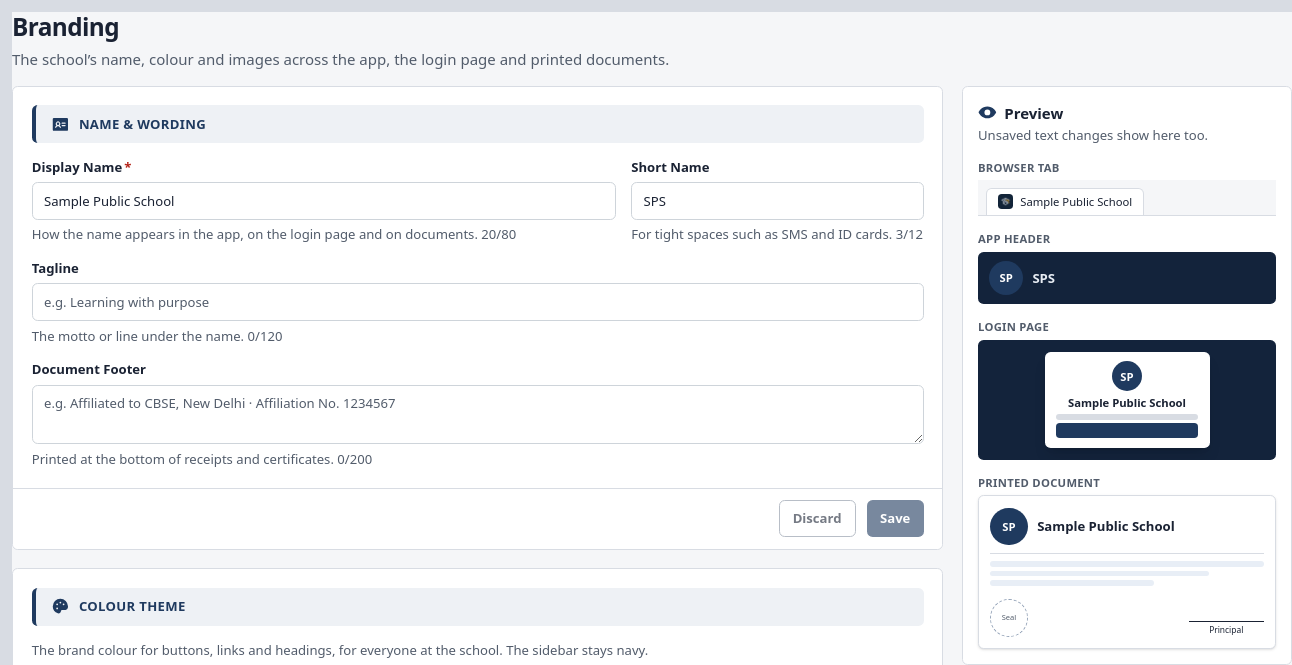
Test case: BrandingPage › previews unsaved text and blocks an empty name
This screenshot has width=1292, height=665.
Replace the text in the field labelled "Display Name*" with "Green Valley School" at (324, 201), box [32, 182, 616, 220]
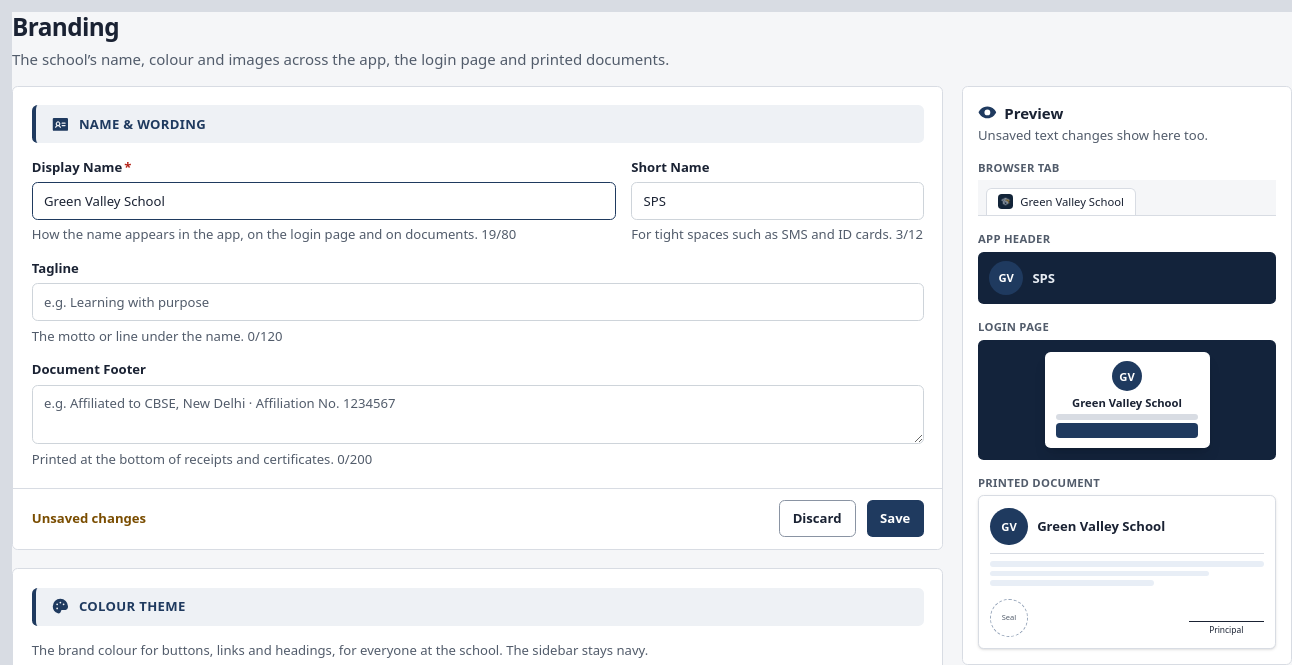
Result: the text "Unsaved changes" is shown at [32, 509, 146, 528]
Result: the 1st text "Green Valley School" is shown at [1020, 194, 1124, 210]
Clear the field labelled "Display Name*" at (324, 201), box [32, 182, 616, 220]
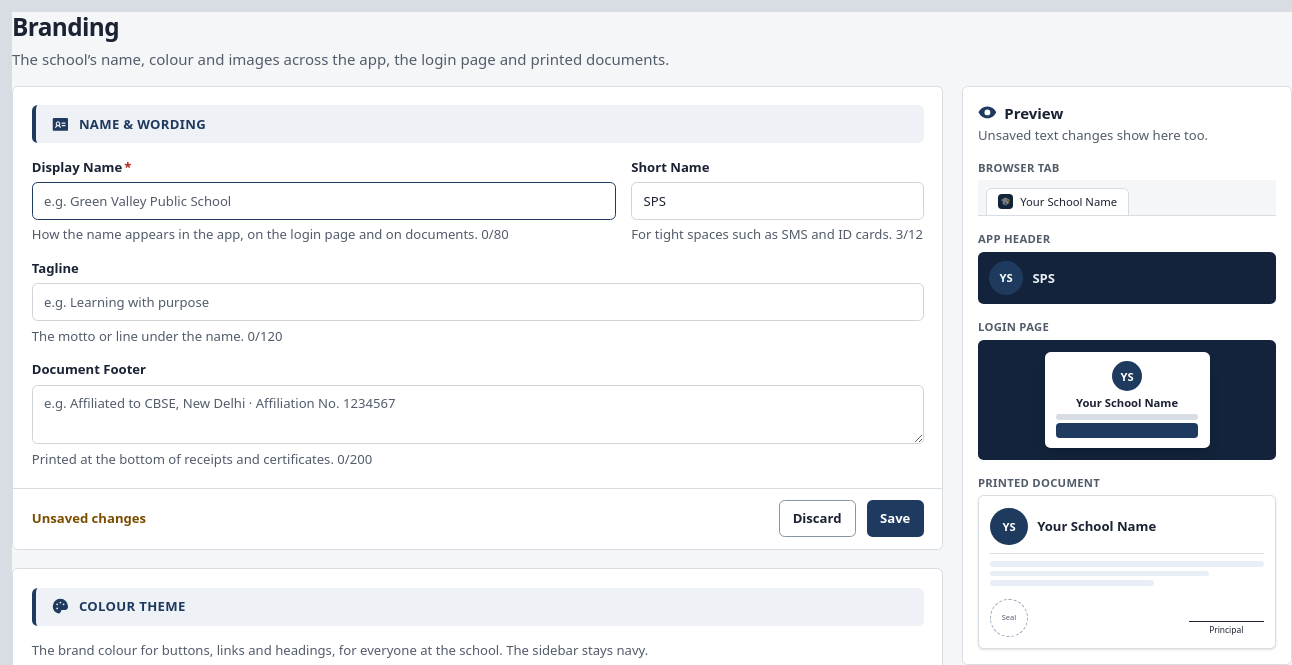
Click the button "Save" at (895, 519), box [867, 500, 924, 537]
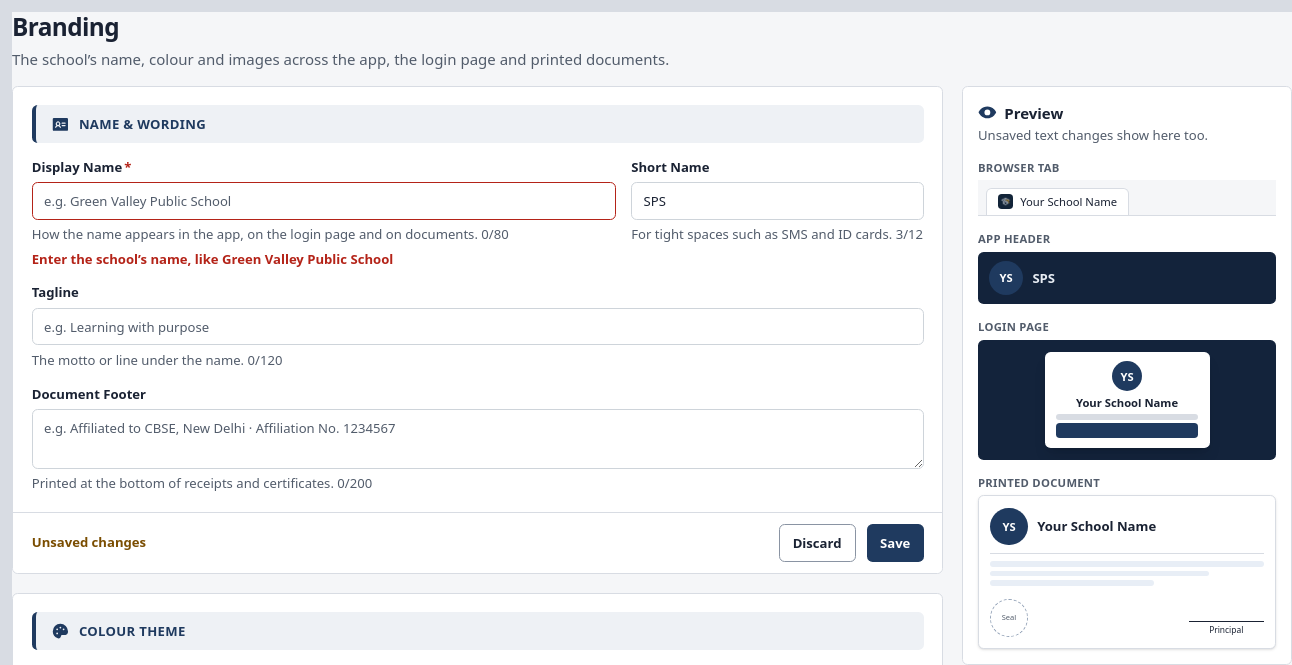
Result: the text "Enter the school’s name, like Green Valley Public School" is shown at [32, 250, 393, 268]
